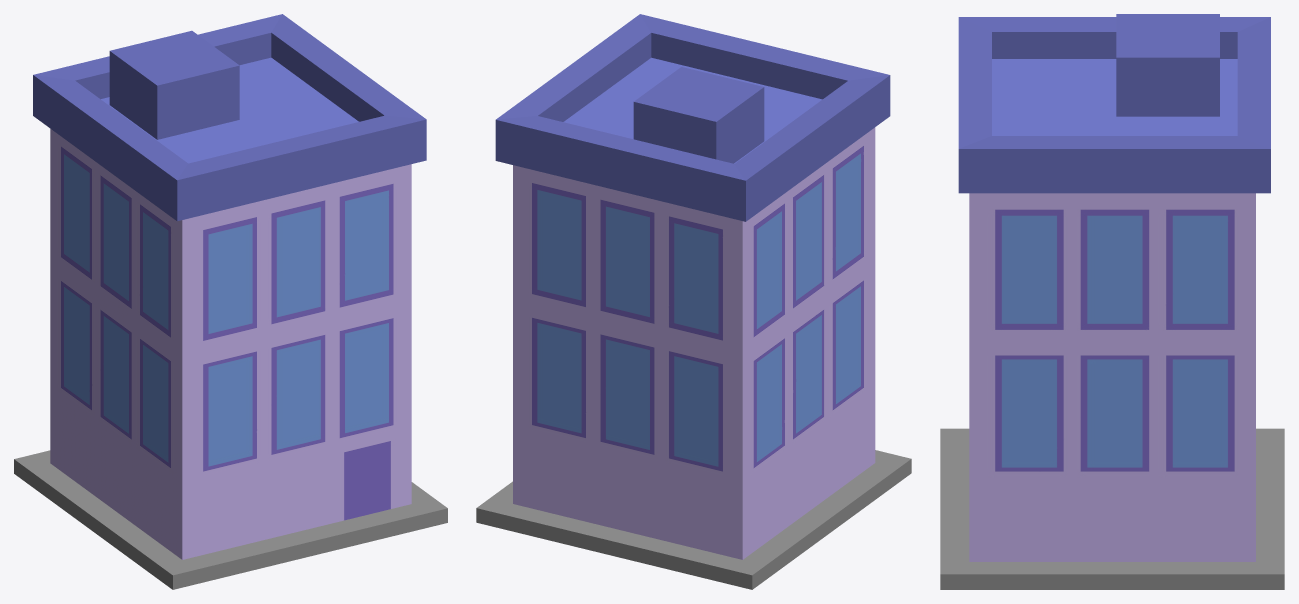
The model's file is High_House_4.FBX.
3 renders of one model, left to right at view 1: azimuth 30°, elevation 25°; view 2: azimuth 150°, elevation 25°; view 3: azimuth 270°, elevation 25°, orthographic. The views are drawn at different scales.
Visible parts, largest first — view 1: Box004, Box002; view 2: Box004, Box002; view 3: Box004, Box002.
Part boxes in pixels (bbox=[...]): Box004: bbox=[33, 14, 426, 559]; Box002: bbox=[14, 450, 447, 589]; Box004: bbox=[495, 14, 890, 559]; Box002: bbox=[476, 450, 911, 589]; Box004: bbox=[958, 14, 1270, 561]; Box002: bbox=[940, 428, 1284, 589].
Bounding box in the file's own units: 1 × 1.49 × 1.
5 materials, 4 textured.
